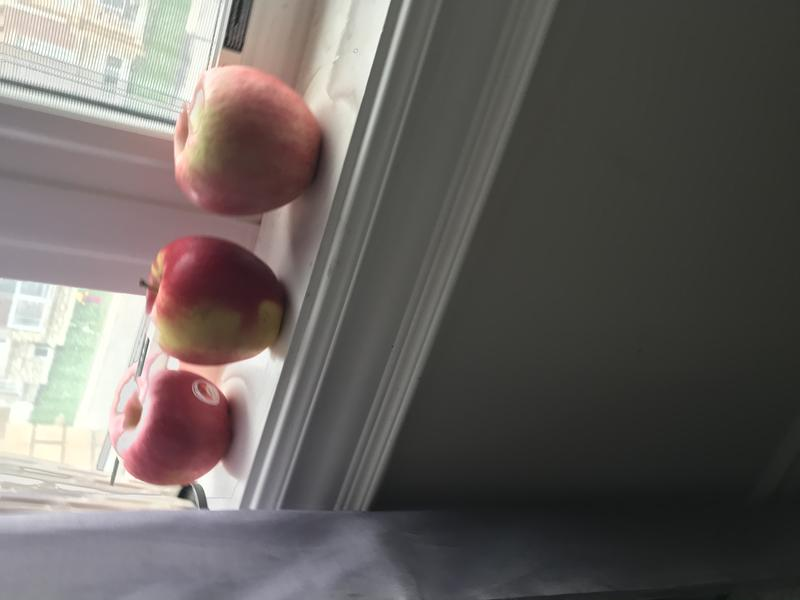red_apple: (167, 62, 339, 224), (131, 232, 300, 373), (93, 361, 255, 496)
